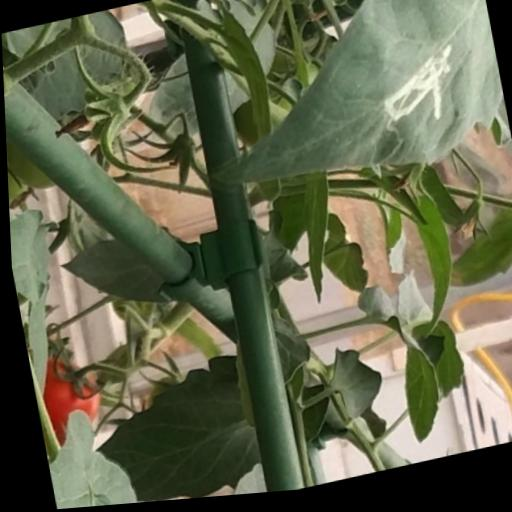Healthy: (76, 348, 265, 508)
Leaf_Miner: (169, 0, 512, 218)
